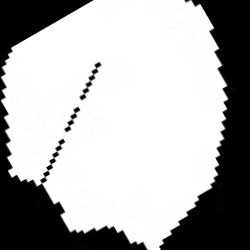spot: (3, 1, 224, 249)
